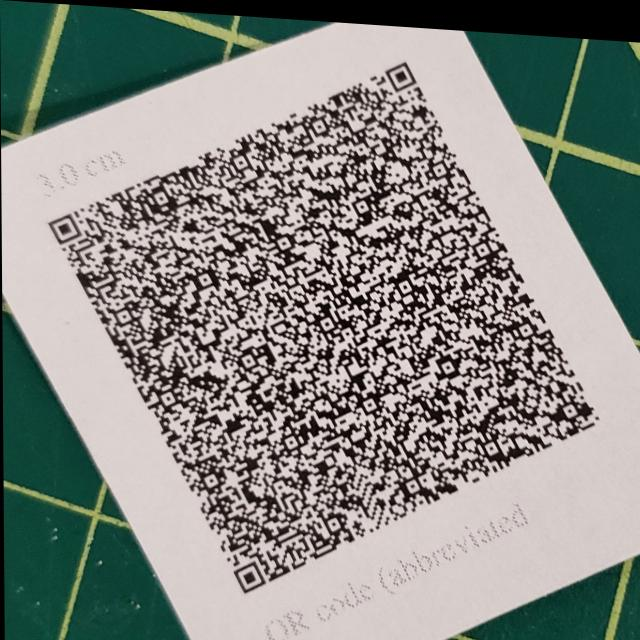QR_CODE: (28, 18, 617, 618)
